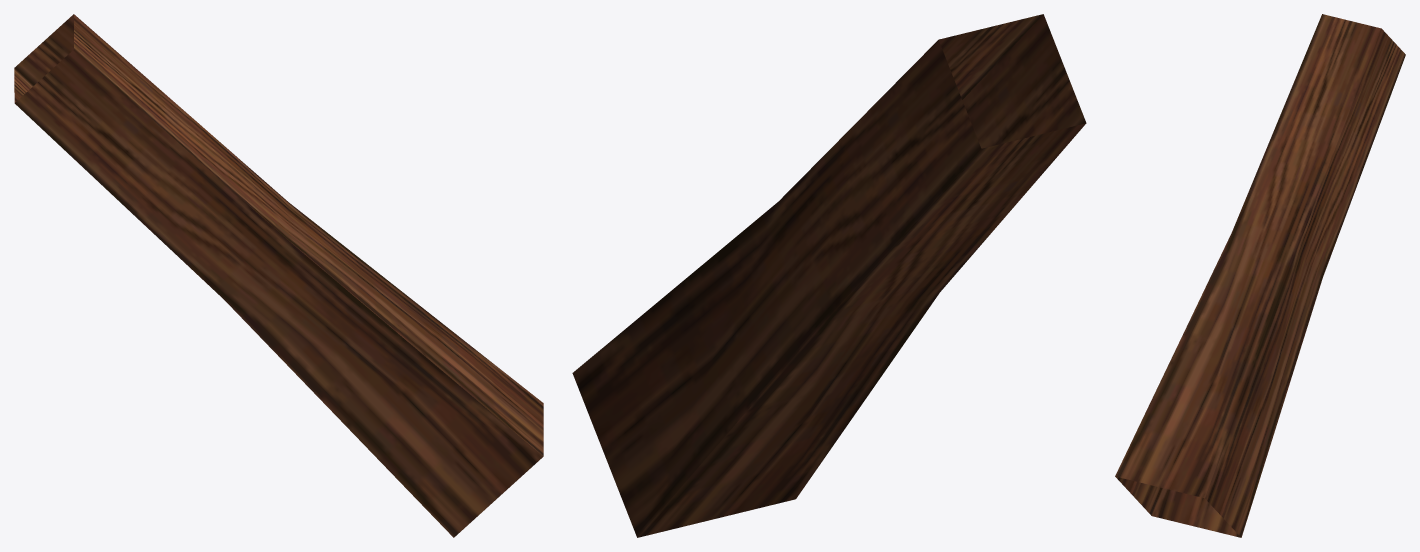
File: OVERHILL_A_01_POST28.fbx
3 views of the same model, side by side, from view 1: azimuth 30°, elevation 25°; view 2: azimuth 150°, elevation 25°; view 3: azimuth 270°, elevation 25° (orthographic). The views are drawn at different scales.
Visible parts, largest first — view 1: OVERHILL_A_01_POST28; view 2: OVERHILL_A_01_POST28; view 3: OVERHILL_A_01_POST28.
Boxes of the visible parts, x1,y1,x2,y2 form: OVERHILL_A_01_POST28: (14,14,543,537); OVERHILL_A_01_POST28: (572,14,1086,537); OVERHILL_A_01_POST28: (1115,14,1405,537).
Bounding box in the file's own units: 6765 × 7005 × 4712.
1 material, 1 textured.
